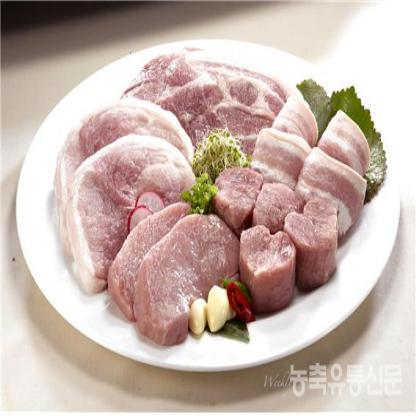pork: (75, 49, 362, 322)
